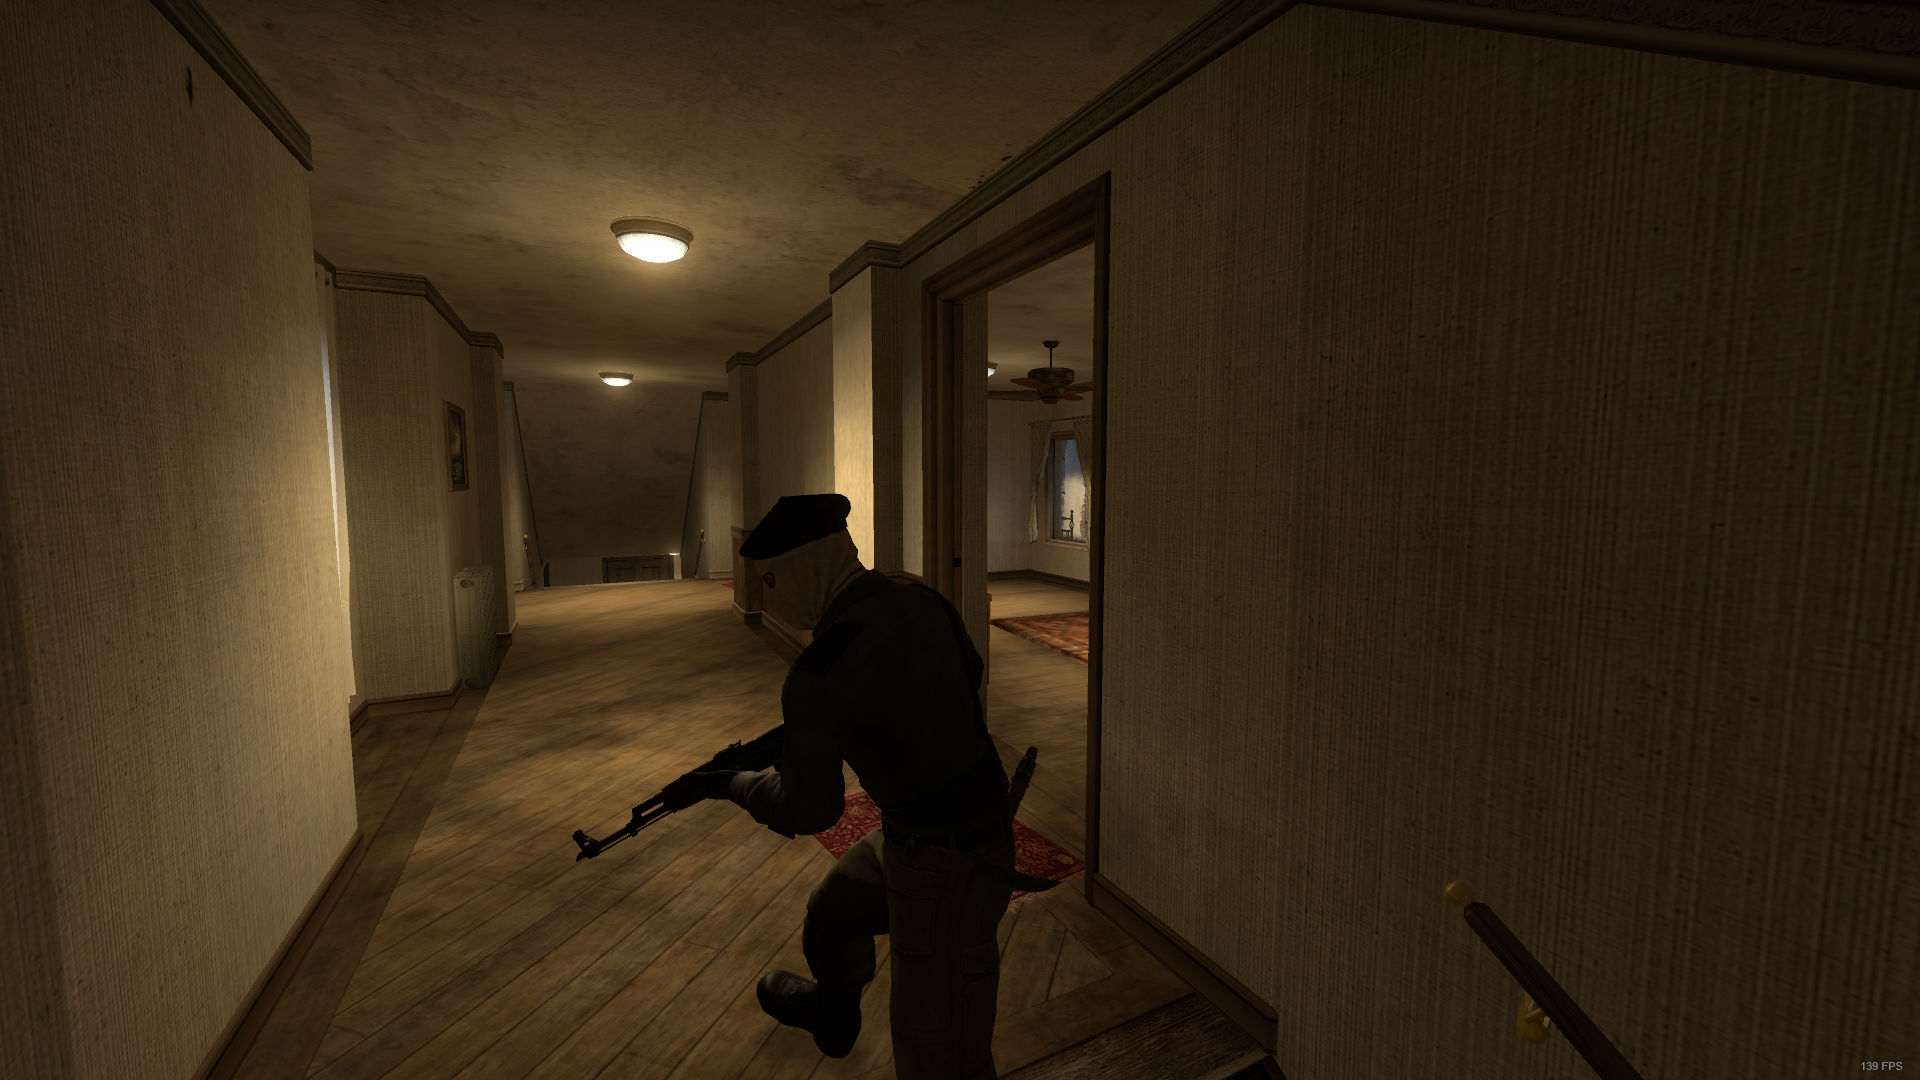t: (717, 492, 1040, 1080)
